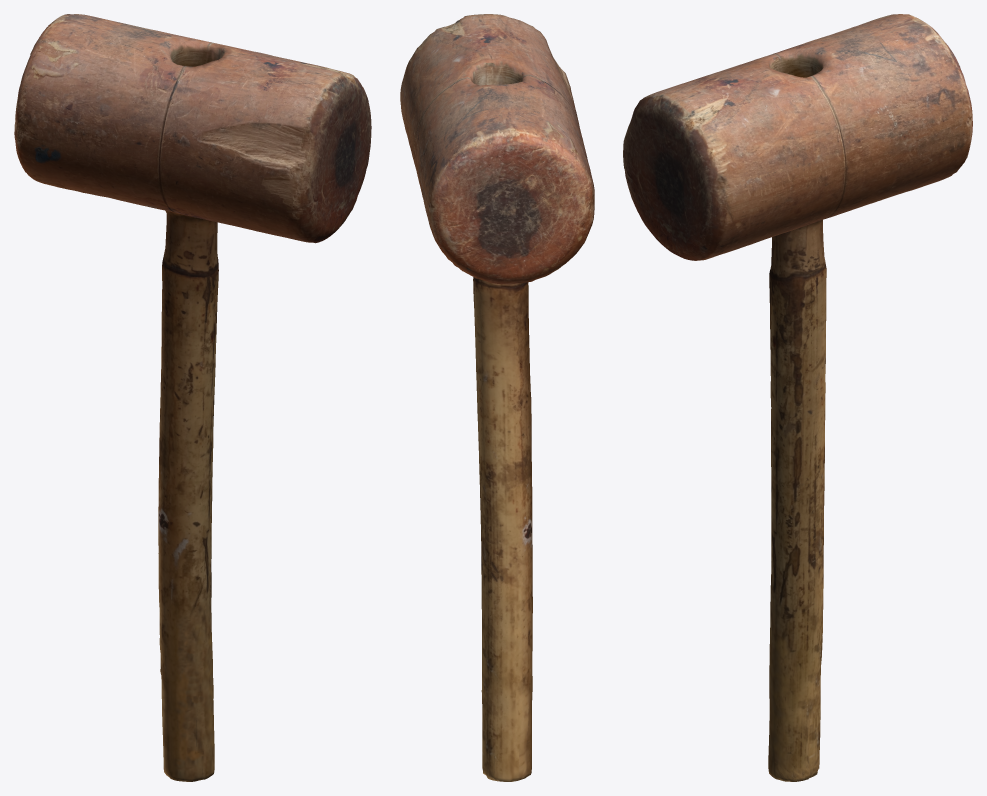
File: woodenhammermallet20k.glb
3 views of the same model, side by side, from view 1: azimuth 30°, elevation 25°; view 2: azimuth 150°, elevation 25°; view 3: azimuth 270°, elevation 25° (orthographic). The views are drawn at different scales.
Visible parts, largest first — view 1: 10KWoodenMallet_0; view 2: 10KWoodenMallet_0; view 3: 10KWoodenMallet_0.
Boxes of the visible parts, <box> form: 10KWoodenMallet_0: <box>14,14,371,781</box>; 10KWoodenMallet_0: <box>400,14,594,781</box>; 10KWoodenMallet_0: <box>623,14,972,781</box>.
Bounding box in the file's own units: 0.1308 × 0.332 × 0.1458.
1 material, 1 textured.
